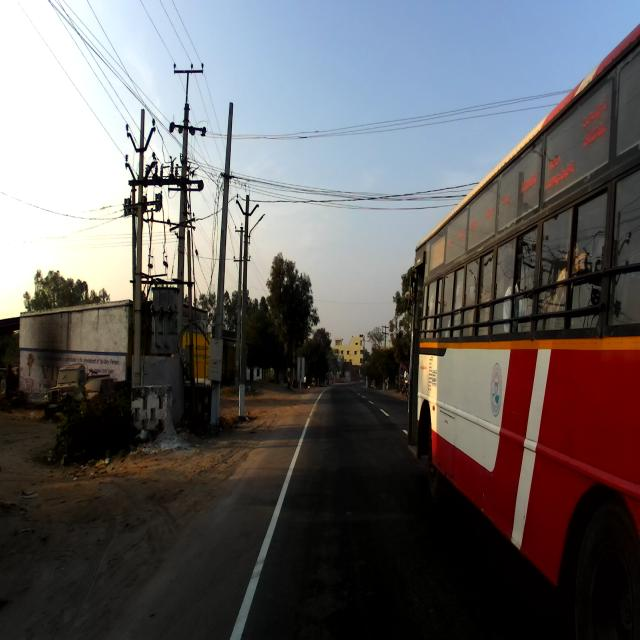bus ahead at: (405, 20, 638, 639)
electric pole ahead at: (204, 92, 235, 440)
